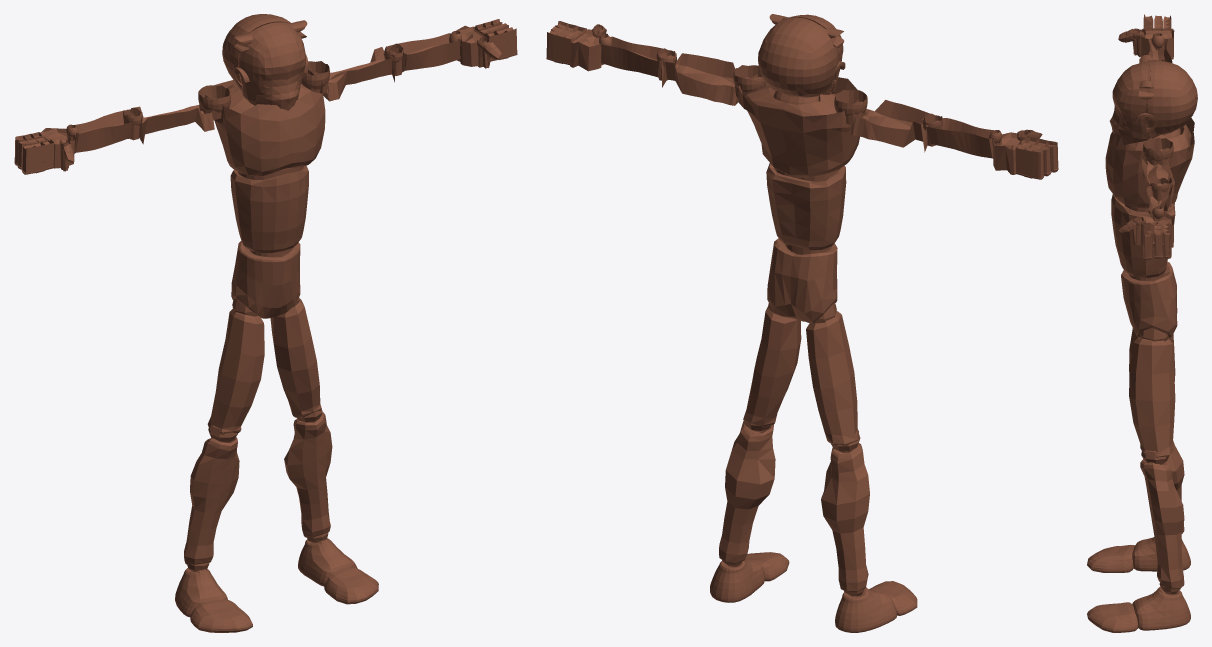
The model's file is c96b8574-e863-495a-8507-cce77dc1e746.glb.
3 renders of one model, left to right at view 1: azimuth 30°, elevation 25°; view 2: azimuth 150°, elevation 25°; view 3: azimuth 270°, elevation 25°, orthographic. The views are drawn at different scales.
Visible parts, largest first — view 1: base_mannequin.glb, base_mannequin.glb_2; view 2: base_mannequin.glb, base_mannequin.glb_2; view 3: base_mannequin.glb, base_mannequin.glb_2, base_mannequin.glb_1.
Part boxes in pixels (box(x1,y1,x2,y2)): base_mannequin.glb: box(14, 14, 517, 632); base_mannequin.glb_2: box(66, 19, 461, 571); base_mannequin.glb: box(546, 14, 1058, 632); base_mannequin.glb_2: box(599, 16, 1001, 596); base_mannequin.glb: box(1087, 14, 1197, 632); base_mannequin.glb_2: box(1125, 33, 1180, 594); base_mannequin.glb_1: box(1138, 55, 1153, 99).
Size of the model in its own units: 1.5 by 1.67 by 0.3161.
3 materials, 3 textured.
